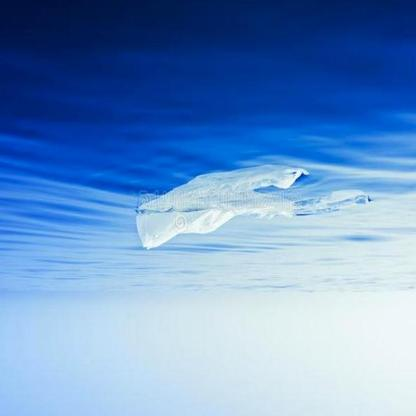plastic bag: (132, 165, 372, 250)
